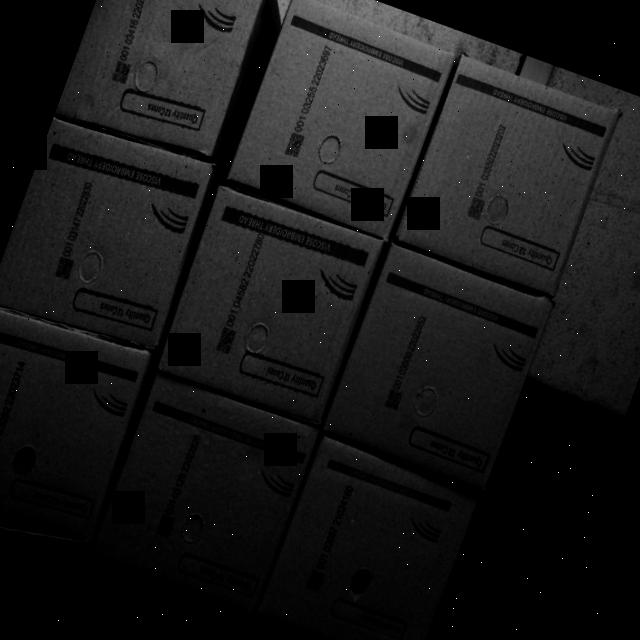box: (320, 245, 556, 494), (0, 106, 222, 366), (394, 42, 622, 294), (152, 181, 386, 423), (224, 0, 458, 242), (90, 372, 320, 614), (255, 436, 486, 640), (0, 297, 157, 572), (56, 0, 275, 166)
